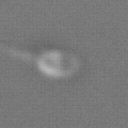normal: (1, 36, 35, 66)
